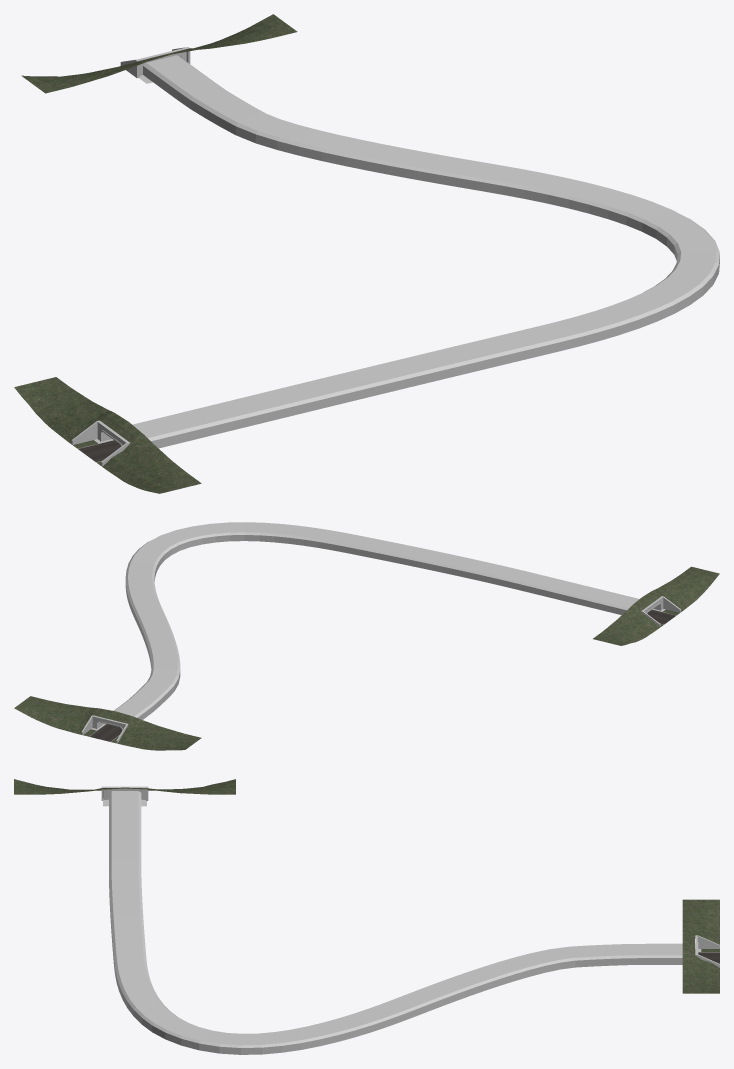
3 renders of one model, top to bottom at view 1: azimuth 30°, elevation 25°; view 2: azimuth 150°, elevation 25°; view 3: azimuth 270°, elevation 25°, orthographic. The views are drawn at different scales.
Parts seen in each view (by area): view 1: Track, Grass; view 2: Track, Grass, Road; view 3: Track, Grass.
Boxes of the visible parts, x1,y1,x2,y2 form: Track: [71, 47, 719, 466]; Grass: [14, 14, 297, 493]; Track: [81, 522, 680, 743]; Grass: [14, 566, 719, 750]; Road: [89, 609, 676, 741]; Track: [101, 786, 719, 1054]; Grass: [14, 779, 719, 993].
Size of the model in its own units: 38514 by 1676 by 44500.
